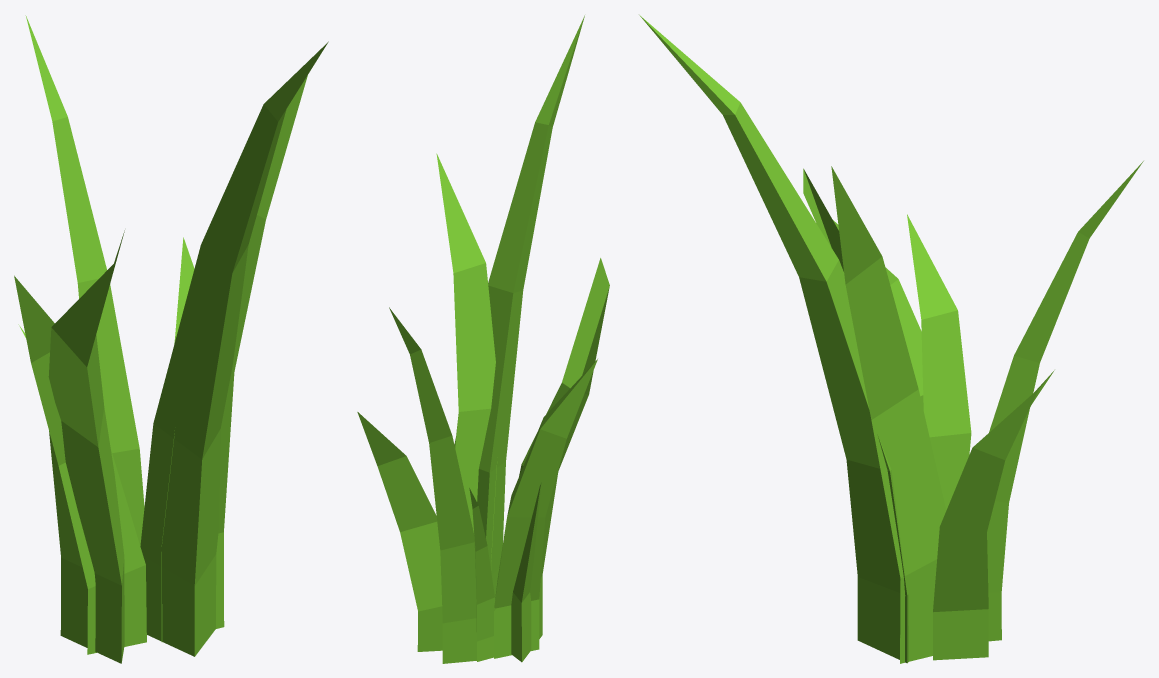
Rendered from gras.fbx.
3 renders of one model, left to right at view 1: azimuth 30°, elevation 25°; view 2: azimuth 150°, elevation 25°; view 3: azimuth 270°, elevation 25°, orthographic. The views are drawn at different scales.
Parts seen in each view (by area): view 1: Cylinder.010, Cylinder.011, Cylinder.008, Cylinder.006, Cylinder.005, Cylinder.007; view 2: Cylinder.010, Cylinder.005, Cylinder.008, Cylinder.006, Cylinder.007, Cylinder.011, Cylinder.009; view 3: Cylinder.010, Cylinder.005, Cylinder.007, Cylinder.006, Cylinder.008, Cylinder.011.
Part boxes in pixels (x1=…): Cylinder.010: x1=140, y1=41, x2=328, y2=656; Cylinder.011: x1=48, y1=230, x2=124, y2=663; Cylinder.008: x1=25, y1=15, x2=144, y2=543; Cylinder.006: x1=14, y1=275, x2=146, y2=654; Cylinder.005: x1=161, y1=75, x2=307, y2=642; Cylinder.007: x1=139, y1=237, x2=194, y2=545; Cylinder.010: x1=454, y1=15, x2=584, y2=598; Cylinder.005: x1=436, y1=153, x2=497, y2=570; Cylinder.008: x1=389, y1=307, x2=476, y2=663; Cylinder.006: x1=494, y1=359, x2=597, y2=658; Cylinder.007: x1=357, y1=412, x2=442, y2=651; Cylinder.011: x1=511, y1=258, x2=609, y2=662; Cylinder.009: x1=469, y1=488, x2=495, y2=661; Cylinder.010: x1=639, y1=15, x2=908, y2=663; Cylinder.005: x1=831, y1=166, x2=946, y2=663; Cylinder.007: x1=933, y1=388, x2=1039, y2=660; Cylinder.006: x1=907, y1=214, x2=971, y2=509; Cylinder.008: x1=987, y1=161, x2=1143, y2=641; Cylinder.011: x1=803, y1=168, x2=923, y2=409.
Bounding box in the file's own units: 15.31 × 40.39 × 29.3.
